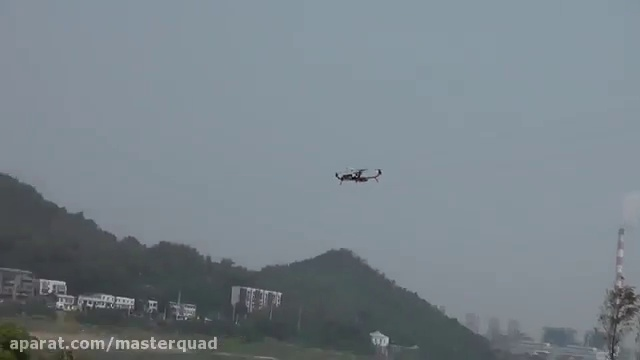drone_other: (330, 162, 385, 188)
